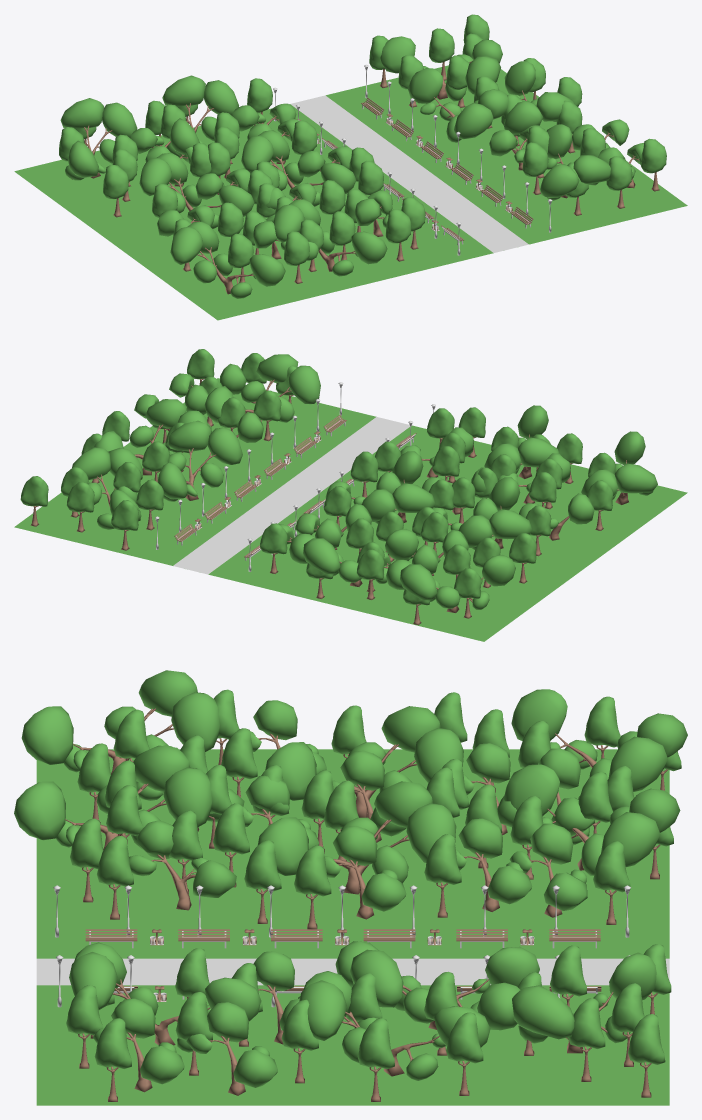
The model's file is parque.glb.
3 views of the same model, one above another, from view 1: azimuth 30°, elevation 25°; view 2: azimuth 150°, elevation 25°; view 3: azimuth 270°, elevation 25° (orthographic). The views are drawn at different scales.
Visible parts, largest first — view 1: Plane, Cube.038, Cube.002, Cube.023, Plane.001, Cylinder.001, Cylinder; view 2: Plane, Cube.038, Cube.002, Cube.023, Plane.001, Cylinder.001, Cylinder; view 3: Plane, Cube.023, Cube.038, Cube.002, Plane.001, Cylinder, Cylinder.001.
Part boxes in pixels (x1,y1,x2,y2): Plane: [14, 65, 687, 320]; Cube.038: [369, 14, 666, 215]; Cube.002: [59, 98, 323, 298]; Cube.023: [160, 75, 425, 276]; Plane.001: [290, 95, 528, 252]; Cylinder.001: [361, 64, 552, 232]; Cylinder: [273, 87, 464, 255]; Plane: [14, 378, 687, 641]; Cube.038: [20, 349, 320, 550]; Cube.002: [356, 431, 657, 625]; Cube.023: [260, 405, 559, 598]; Plane.001: [173, 417, 409, 574]; Cylinder.001: [155, 382, 346, 549]; Cylinder: [244, 404, 435, 571]; Plane: [36, 749, 669, 1105]; Cube.023: [14, 745, 680, 929]; Cube.038: [66, 941, 671, 1101]; Cube.002: [21, 670, 687, 853]; Plane.001: [36, 958, 669, 985]; Cylinder: [53, 885, 630, 948]; Cylinder.001: [56, 955, 630, 1007].
Bounding box in the file's own units: 27.55 × 3.1 × 21.3.
